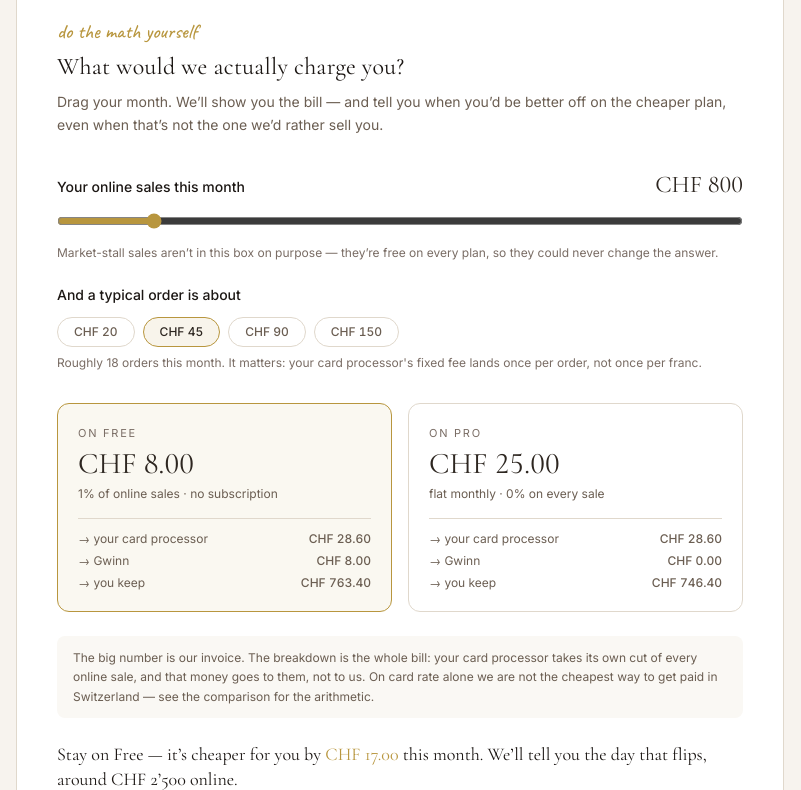
Scenario: FeeCalculator › charges nothing when there were no online sales
The width and height of the screenshot is (801, 790).
Set the slider to "0" at point(65, 221), box [57,213,743,229]
(page scrolled)
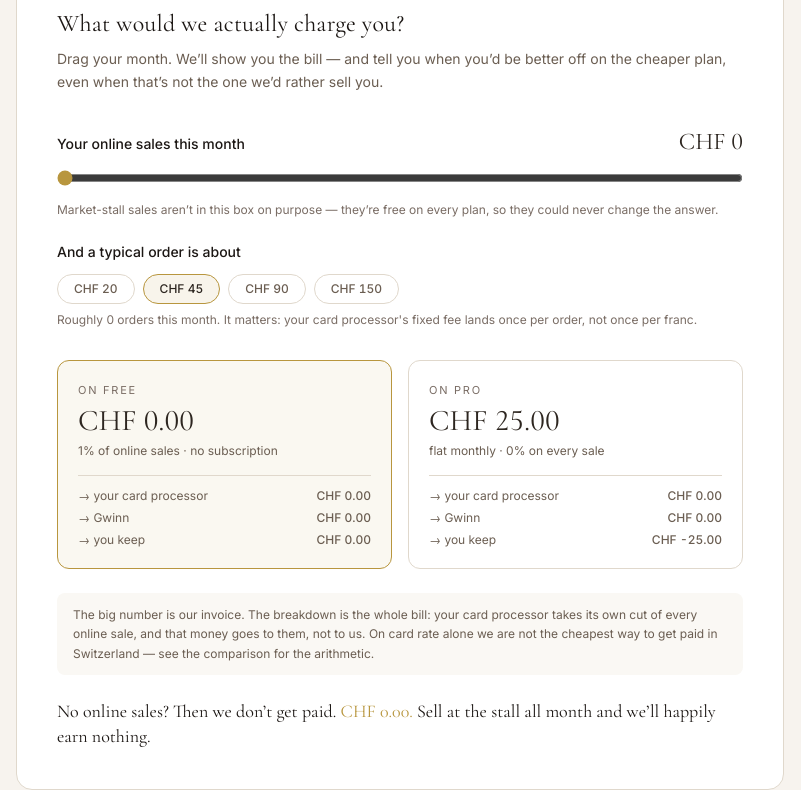
Now the text with test id "fee-free-total" reads "CHF 0.00", box [78,402,194,439]
Now the element with test id "fee-calculator-verdict" shows "we don.t get paid", box [57,700,340,722]
